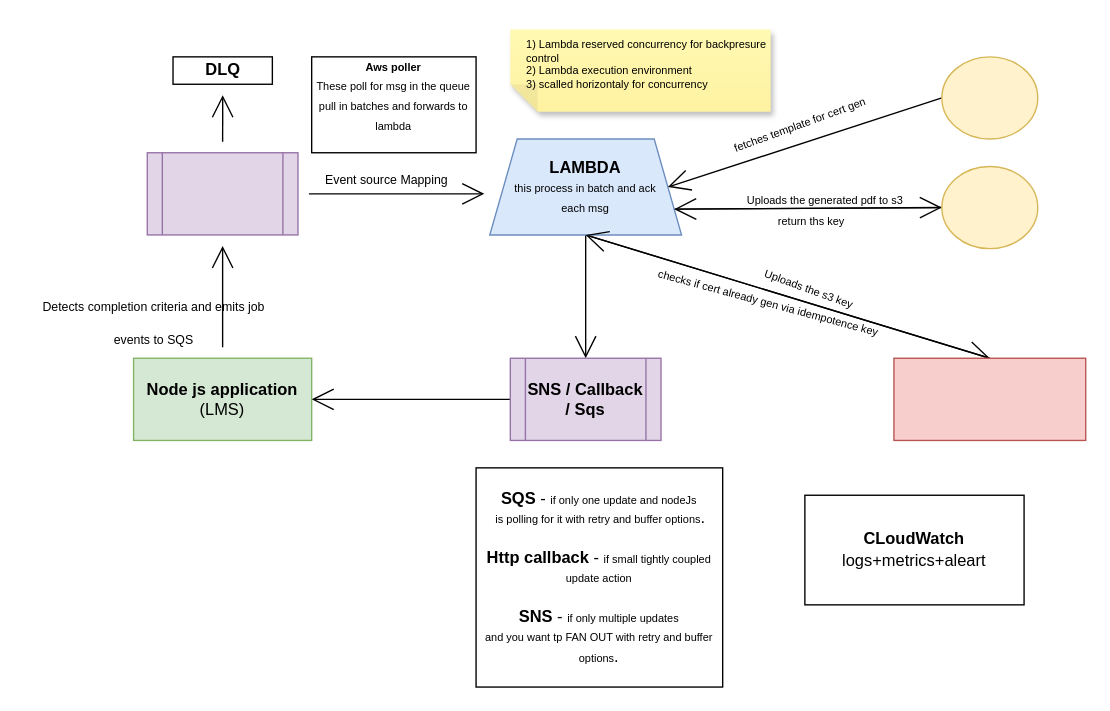
Some shapes in this 1110 by 711 pixel diagram are drawn without their labels. Here are the shapes that lost their labels. From the top down, the centre of each, then its label:
At [989,97]: "S3 - Templates".
At [222,193]: "SQS".
At [989,207]: "S3 - certificate uploads".
At [989,398]: "DYNAMODB this holds the s3_key ,status and idempotence key".
